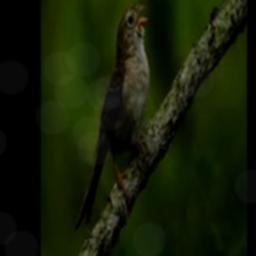Sparrow: (76, 0, 151, 229)
